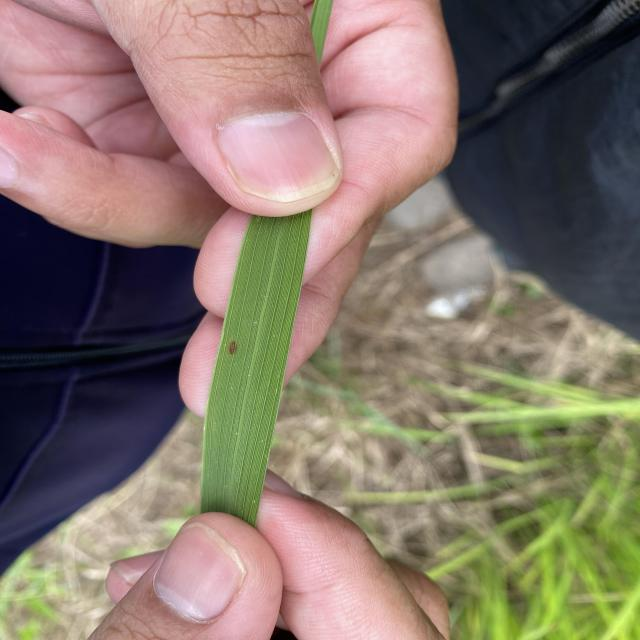Dom nau: (227, 337, 238, 356)
